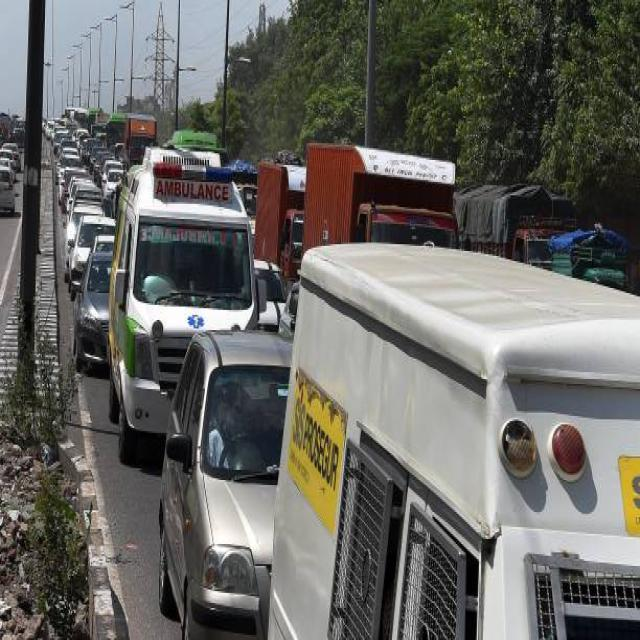ambulance: (143, 169, 237, 214), (146, 129, 232, 172)
